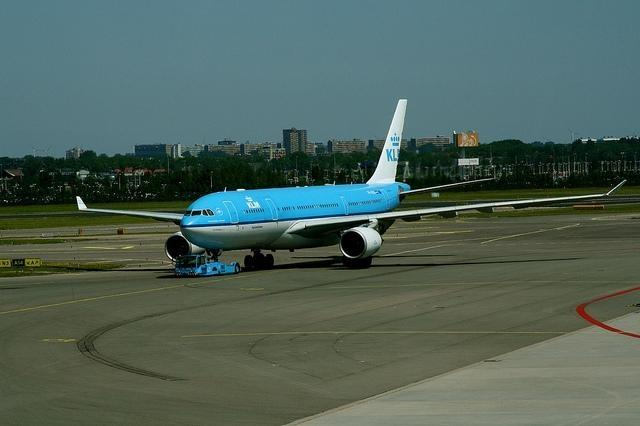truck: (176, 255, 242, 277)
